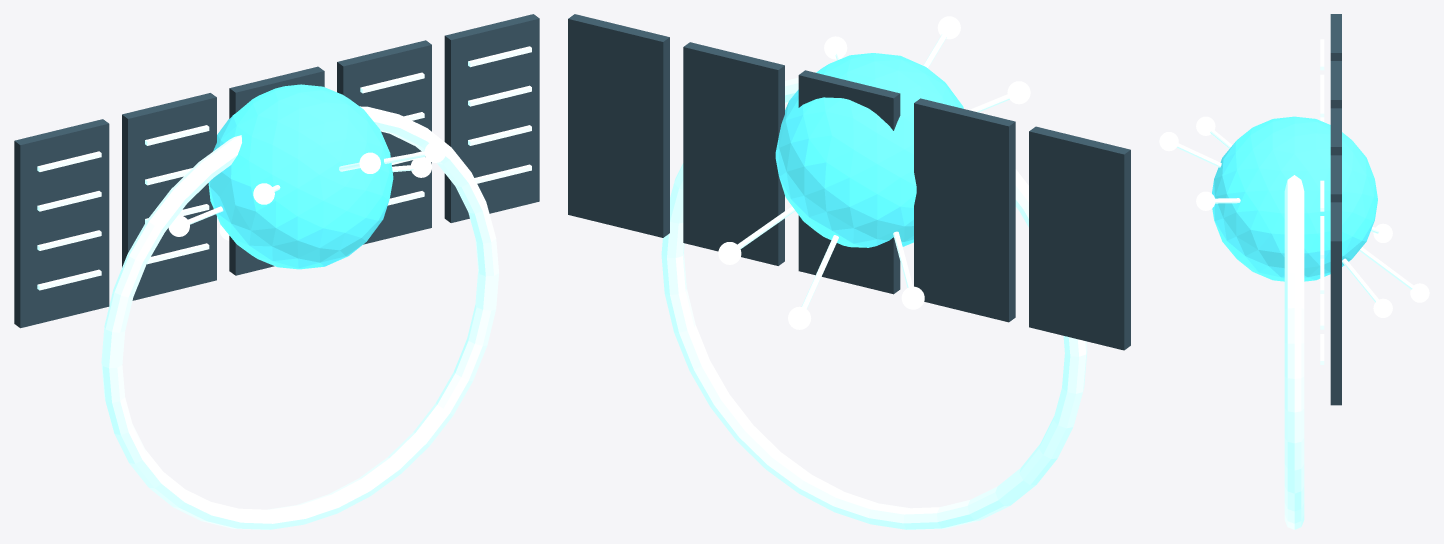
The model's file is plan_04.glb.
3 views of the same model, side by side, from view 1: azimuth 30°, elevation 25°; view 2: azimuth 150°, elevation 25°; view 3: azimuth 270°, elevation 25° (orthographic). The views are drawn at different scales.
Parts seen in each view (by area): view 1: floating_holo, holo_platform, control-0.8, control0.8, control-0.4, control0.4, control0; view 2: floating_holo, control-0.8, control0.8, control-0.4, control0.4, holo_platform, control0; view 3: floating_holo, holo_platform, control0.8, control-0.4, control0, control0.4, control-0.8, holo_link6.
Part boxes in pixels (x1,y1,x2,y2): floating_holo: (208, 84, 393, 269); holo_platform: (101, 106, 498, 529); control-0.8: (14, 119, 109, 328); control0.8: (444, 14, 539, 222); control-0.4: (122, 93, 216, 300); control0.4: (337, 40, 431, 244); control0: (229, 66, 324, 275); floating_holo: (775, 53, 963, 247); control-0.8: (1029, 126, 1130, 350); control0.8: (568, 14, 669, 237); control-0.4: (914, 98, 1015, 322); control0.4: (683, 42, 784, 265); holo_platform: (661, 77, 1087, 529); control0: (798, 70, 900, 294); floating_holo: (1212, 116, 1377, 281); holo_platform: (1284, 175, 1304, 529); control0.8: (1330, 202, 1341, 405); control-0.4: (1330, 61, 1341, 108); control0: (1330, 108, 1341, 155); control0.4: (1330, 155, 1341, 202); control-0.8: (1330, 14, 1341, 60); holo_link6: (1359, 247, 1413, 289).
Size of the model in its own units: 1.82 by 1.45 by 0.9147.
